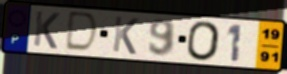1: (227, 24, 243, 64)
9: (147, 18, 176, 59)
D: (62, 10, 100, 55)
K: (31, 9, 61, 51), (110, 15, 140, 57)
O: (186, 20, 222, 63)
